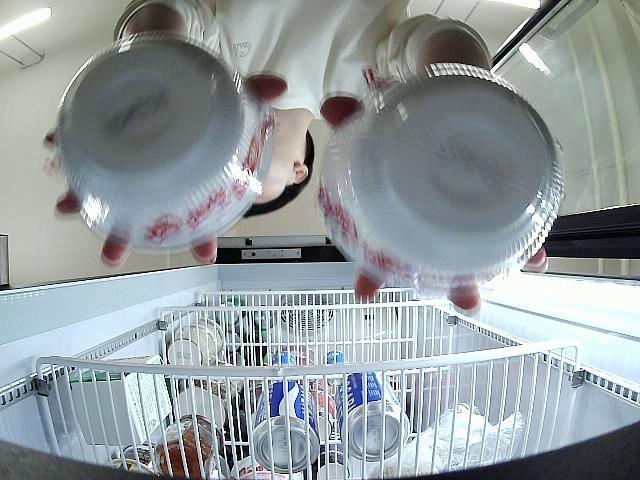09_yukGaeJang: (316, 62, 564, 292), (56, 37, 269, 252)
